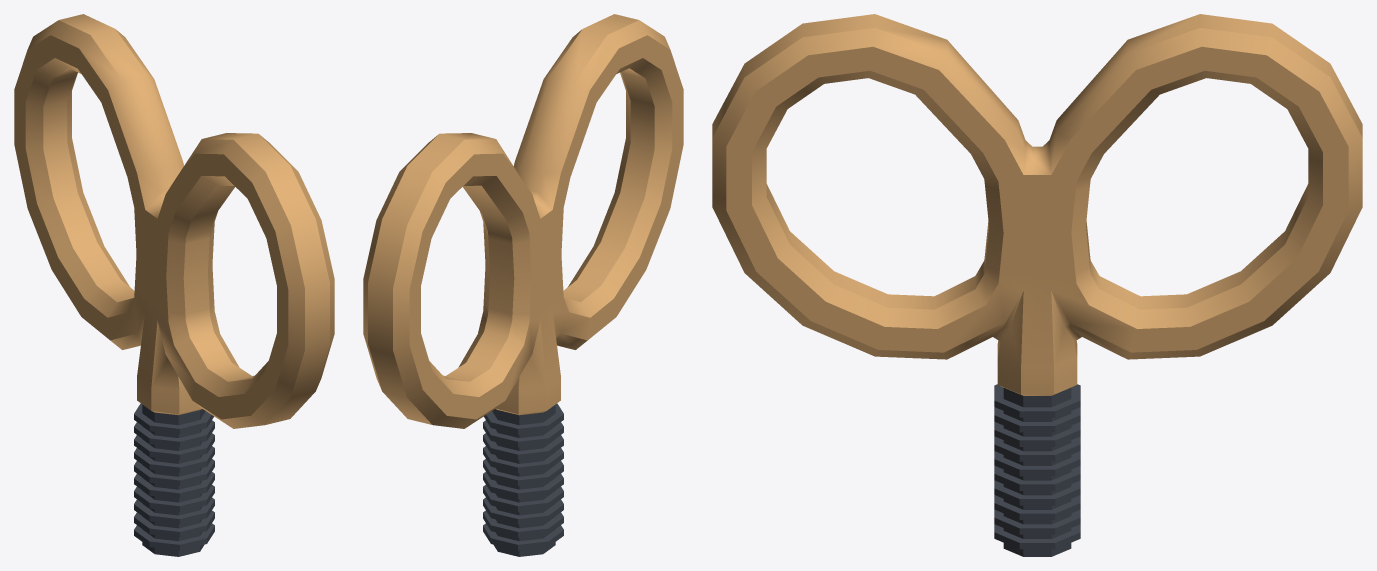
File: Aufziehschlüssel_01_DoubleHole.fbx
The picture shows the model from 3 angles, left to right: view 1: azimuth 30°, elevation 25°; view 2: azimuth 150°, elevation 25°; view 3: azimuth 270°, elevation 25°; orthographic projection. The views are drawn at different scales.
Visible parts, largest first — view 1: Aufziehschlüssel_02.001; view 2: Aufziehschlüssel_02.001; view 3: Aufziehschlüssel_02.001.
Part boxes in pixels (<box>): Aufziehschlüssel_02.001: <box>14,14,334,556</box>; Aufziehschlüssel_02.001: <box>363,14,683,556</box>; Aufziehschlüssel_02.001: <box>712,14,1362,556</box>.
Size of the model in its own units: 14.67 by 98.12 by 111.
